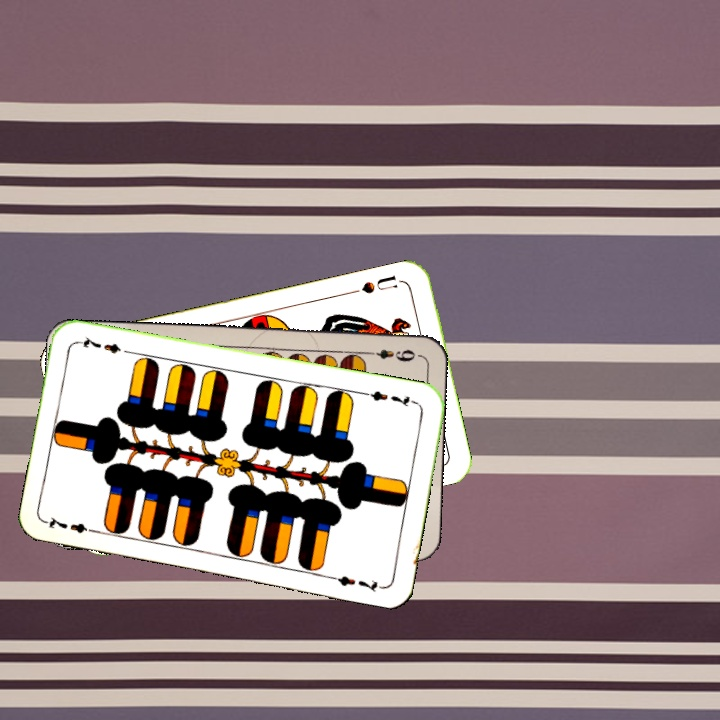E7: (43, 512, 102, 536), (361, 387, 420, 410)
E9: (361, 345, 421, 365)
SU: (347, 271, 400, 297)
